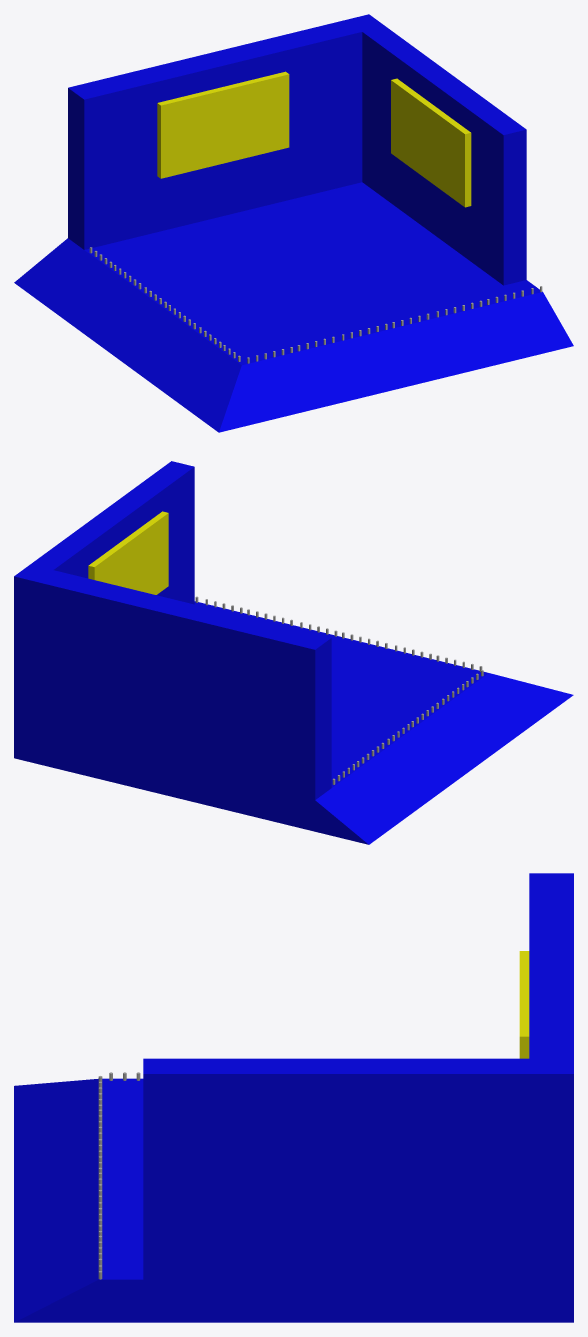
The model's file is Boat_Corral.fbx.
The picture shows the model from 3 angles, top to bottom: view 1: azimuth 30°, elevation 25°; view 2: azimuth 150°, elevation 25°; view 3: azimuth 270°, elevation 25°; orthographic projection. The views are drawn at different scales.
Visible parts, largest first — view 1: Corral, Ride_Sign, Ride_Sign1; view 2: Corral, Ride_Sign1; view 3: Corral, Ride_Sign.
Part boxes in pixels (<box>): Corral: <box>14,14,573,432</box>; Ride_Sign: <box>157,71,289,178</box>; Ride_Sign1: <box>391,78,471,207</box>; Corral: <box>14,461,573,844</box>; Ride_Sign1: <box>88,511,168,594</box>; Corral: <box>14,873,573,1322</box>; Ride_Sign: <box>519,951,529,1058</box>.
Size of the model in its own units: 82.54 by 40.4 by 82.47.
